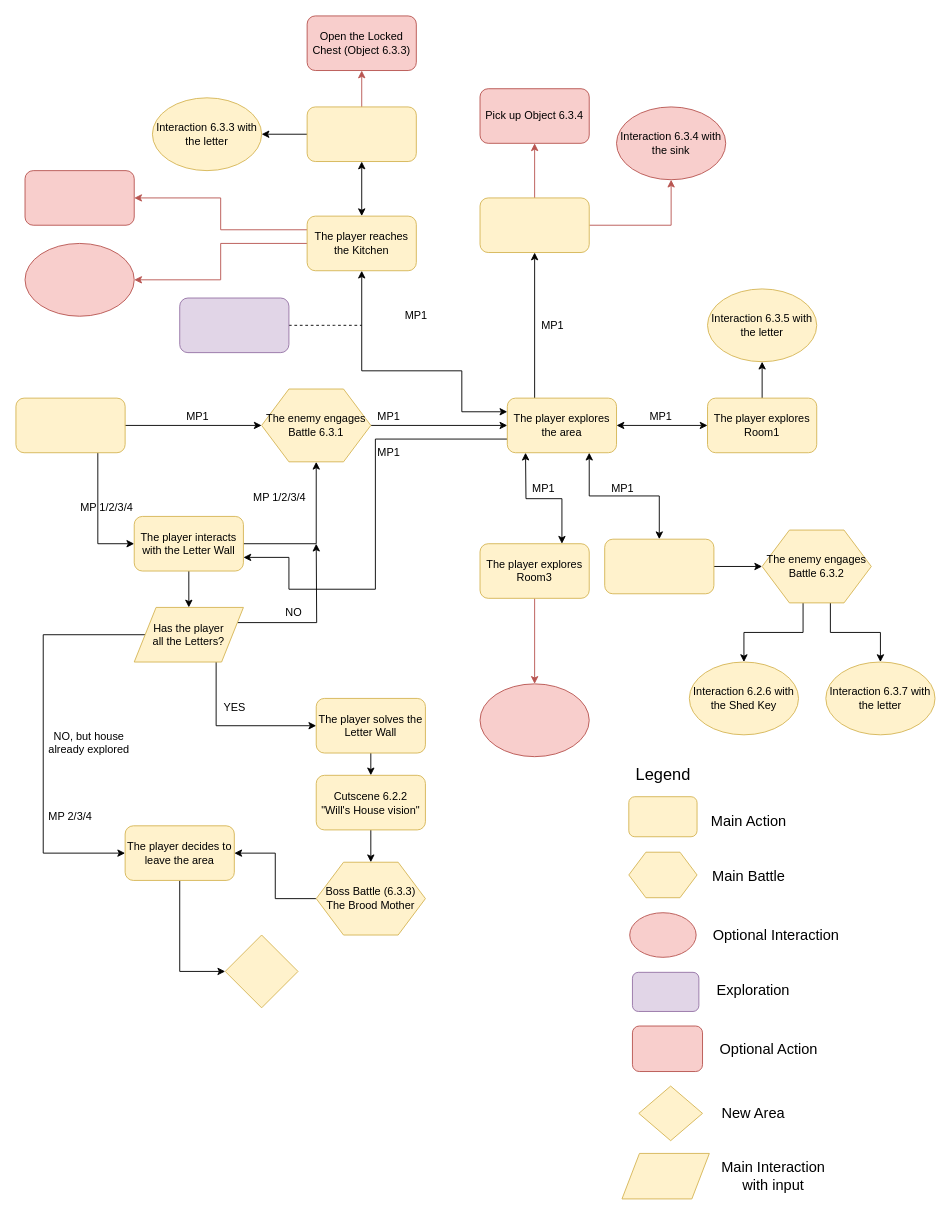
The diagram is 951 pixels wide and 1215 high, and some of its shapes have lost their labels. The box of each missing label's shape, as (x1, y1, x2, y2) in pixels:
Enter the House: (15, 397, 125, 453)
Exit Will's House: (224, 934, 298, 1008)
Exploration: find Object 6.3.1: (179, 297, 289, 353)
Interaction 6.2.1 with the kitchen bench: (24, 243, 134, 316)
Interaction 6.3.8 with the Source of Power: (479, 683, 589, 757)
Pick Up Object 6.3.2 (Knife): (24, 170, 134, 225)
The player continues exploring North: (306, 106, 416, 162)
The player explores Room2: (604, 538, 714, 594)
The player explores the bathroom: (479, 197, 589, 253)
